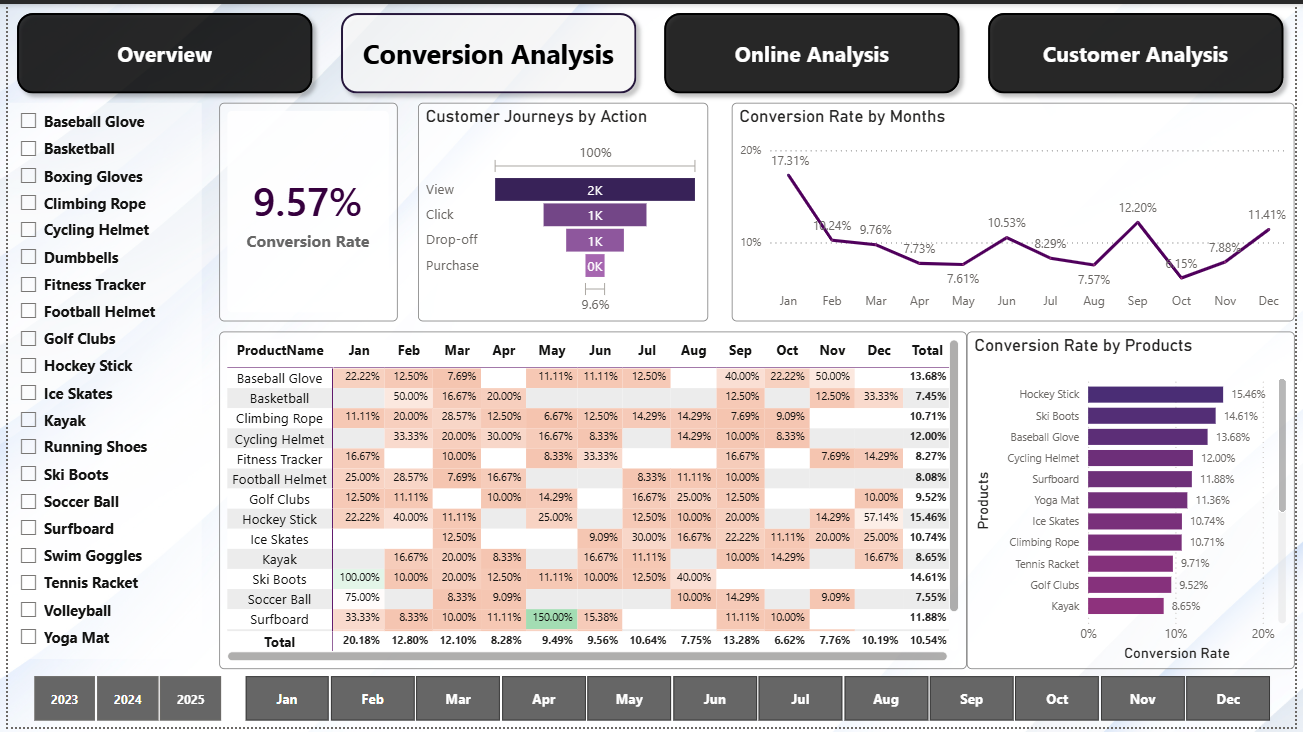

What the dashboard file says about the page in this screenshot:
{"tool":"powerbi","page":{"name":"Conversion Analysis","canvas":[1280,720],"ordinal":1},"visuals":[{"type":"pageNavigator","box":[0,0,1280,98],"z":0},{"type":"slicer","fields":{"Values":["products.ProductName"]},"box":[0,98.3,192.8,553.6],"z":1000},{"type":"slicer","fields":{"Values":["Calendar.Year"]},"box":[0,661.5,236.4,58.5],"z":2000},{"type":"slicer","fields":{"Values":["Calendar.MonthNameShort"]},"box":[210.2,661.5,1069.8,58.5],"z":3000},{"type":"cardVisual","fields":{"Data":["Calculations.Conversion Rate"]},"box":[210.2,98.3,177.9,217.7],"z":4000},{"type":"funnel","title":"Customer Journeys by Action","fields":{"Category":["customer_journey.Action"],"Y":["Calculations.Number of Customer Journeys"]},"box":[408,98.3,288.6,217.7],"z":5000},{"type":"lineChart","fields":{"Y":["Calculations.Conversion Rate"],"Category":["Calendar.MonthNameShort"]},"box":[720.3,98.3,559.8,217.7],"z":6000},{"type":"pivotTable","fields":{"Rows":["products.ProductName"],"Columns":["Calendar.MonthNameShort"],"Values":["Calculations.Conversion Rate"]},"box":[210.2,325.9,743.9,335.9],"z":7000},{"type":"clusteredBarChart","title":"Conversion Rate by Products","fields":{"Y":["Calculations.Conversion Rate"],"Category":["products.ProductName"]},"box":[954,326,326,336],"z":8000}]}

Visuals, with their boxes in screenshot pixels (x1, y1, x2, y2), scaled from the page's 1280x720 canvas onto the 1303x732 screenshot:
pageNavigator: <region>0, 0, 1302, 100</region>
slicer - products.ProductName: <region>0, 100, 196, 663</region>
slicer - Calendar.Year: <region>0, 673, 241, 731</region>
slicer - Calendar.MonthNameShort: <region>214, 673, 1302, 731</region>
cardVisual - Calculations.Conversion Rate: <region>214, 100, 395, 321</region>
"Customer Journeys by Action" funnel: <region>415, 100, 709, 321</region>
lineChart - Calculations.Conversion Rate x Calendar.MonthNameShort: <region>733, 100, 1302, 321</region>
pivotTable - products.ProductName x Calendar.MonthNameShort: <region>214, 331, 971, 673</region>
"Conversion Rate by Products" clusteredBarChart: <region>971, 331, 1302, 673</region>
